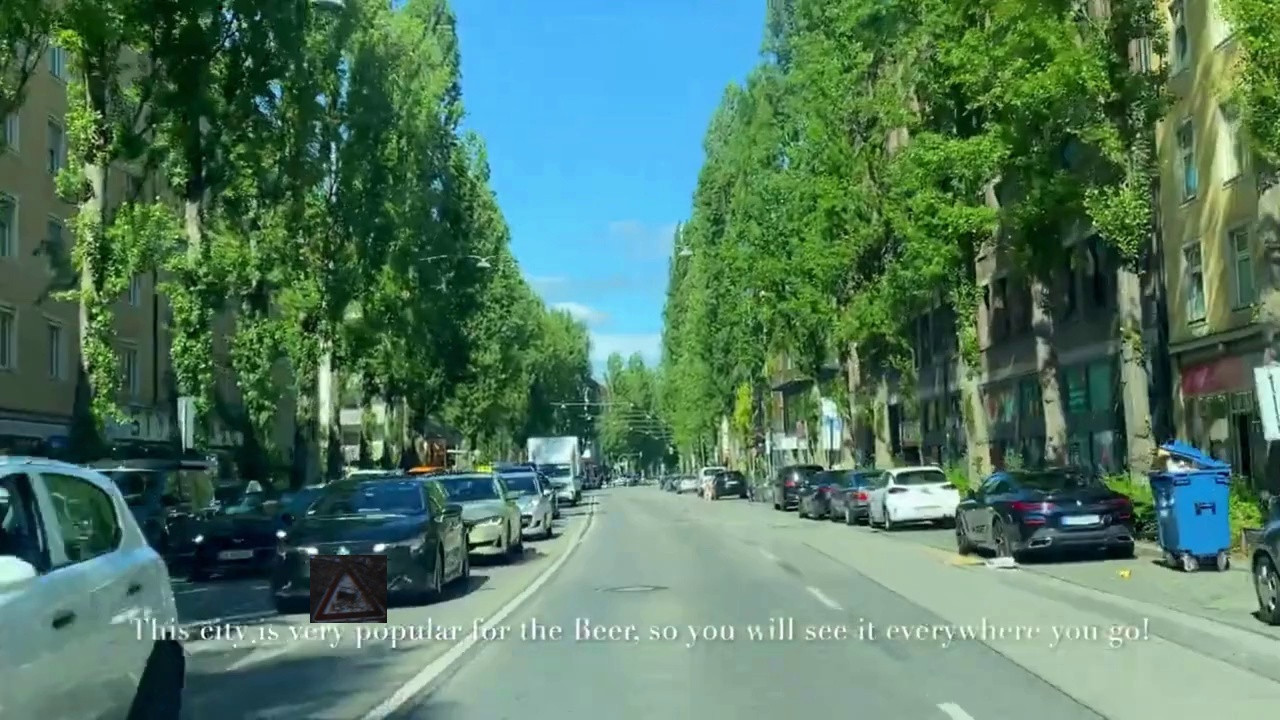Slippery: (310, 555, 387, 623)
